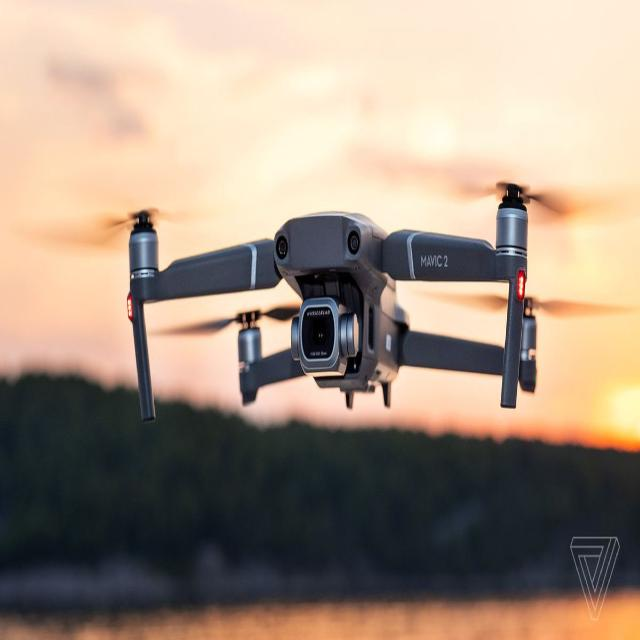drone: (105, 147, 582, 486)
